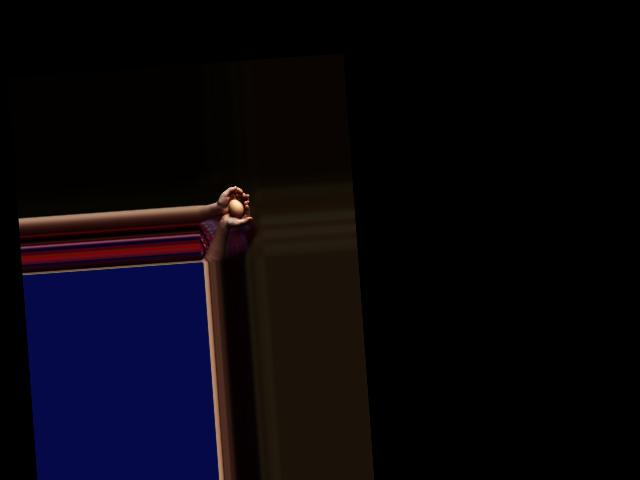egg: (228, 199, 245, 218)
